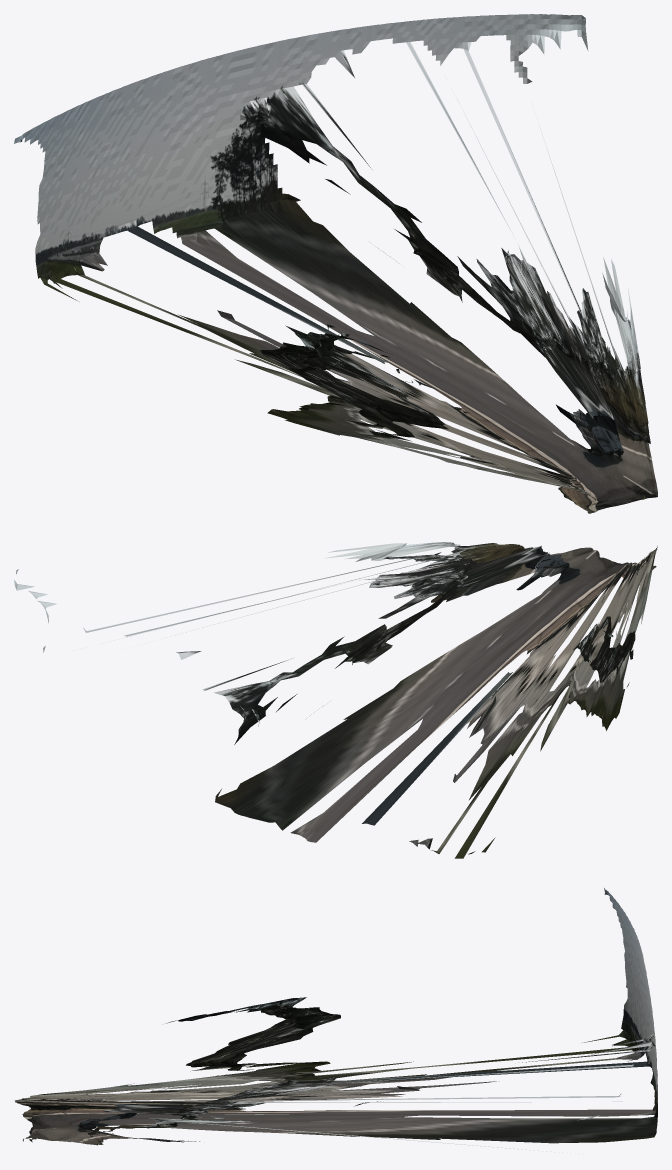
3 renders of one model, top to bottom at view 1: azimuth 30°, elevation 25°; view 2: azimuth 150°, elevation 25°; view 3: azimuth 270°, elevation 25°, orthographic. The views are drawn at different scales.
Visible parts, largest first — view 1: defaultobject; view 2: defaultobject; view 3: defaultobject.
Boxes of the visible parts, x1,y1,x2,y2 form: defaultobject: (14, 14, 657, 513); defaultobject: (14, 542, 657, 858); defaultobject: (14, 888, 657, 1154).
Bounding box in the file's own units: 37.23 × 11.7 × 45.27.
Materials: 1 (1 with a texture image).
